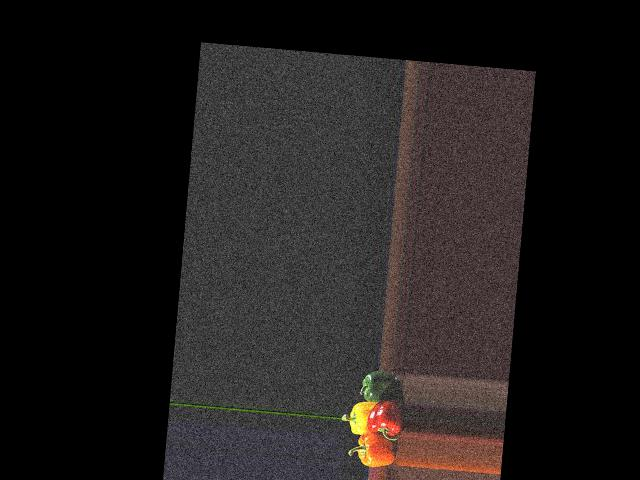bell_pepper: (351, 430, 402, 469)
